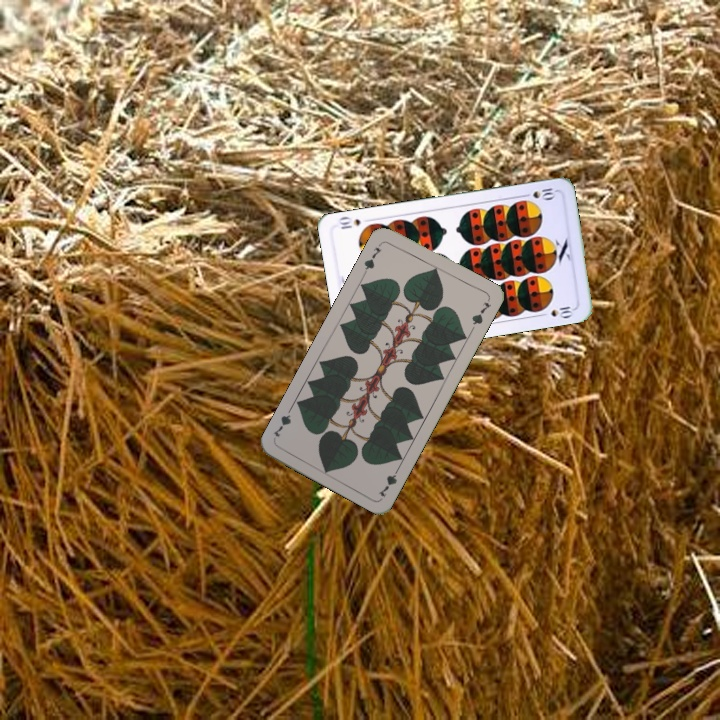G7: (374, 462, 402, 500), (360, 238, 385, 276)
S10: (518, 184, 558, 202)
